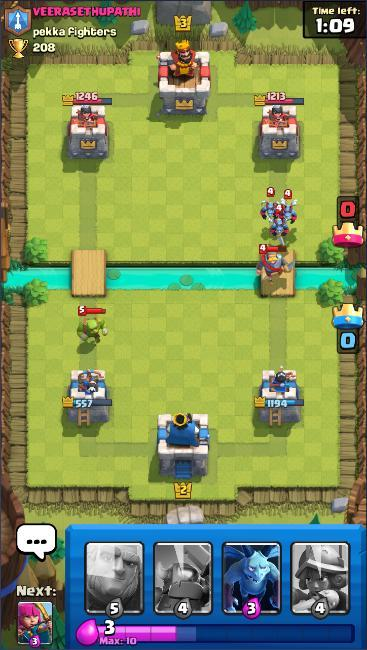enemy_brawler: (75, 304, 110, 345)
enemy_knight: (254, 241, 297, 283)
enemy_minion: (274, 188, 300, 226), (258, 185, 284, 222), (267, 204, 291, 238)
